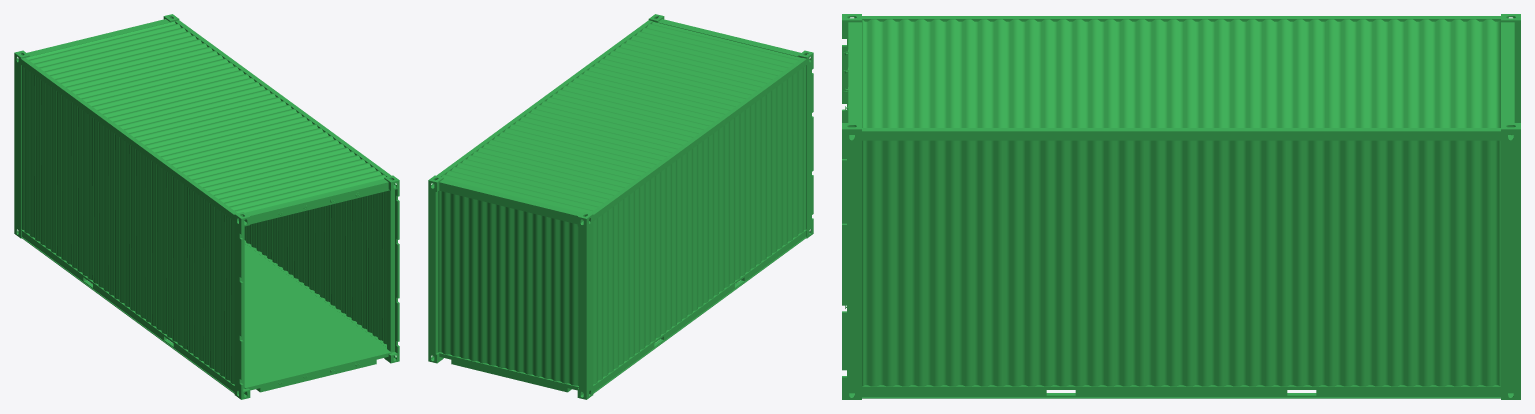
File: SM_ShipContainer.fbx
The picture shows the model from 3 angles, left to right: view 1: azimuth 30°, elevation 25°; view 2: azimuth 150°, elevation 25°; view 3: azimuth 270°, elevation 25°; orthographic projection. The views are drawn at different scales.
Visible parts, largest first — view 1: ShipContainer; view 2: ShipContainer; view 3: ShipContainer.
Boxes of the visible parts, box(x1,y1,x2,y2) form: ShipContainer: box(14, 14, 399, 399); ShipContainer: box(428, 14, 813, 399); ShipContainer: box(842, 14, 1520, 399).
Size of the model in its own units: 244 by 266 by 606.
